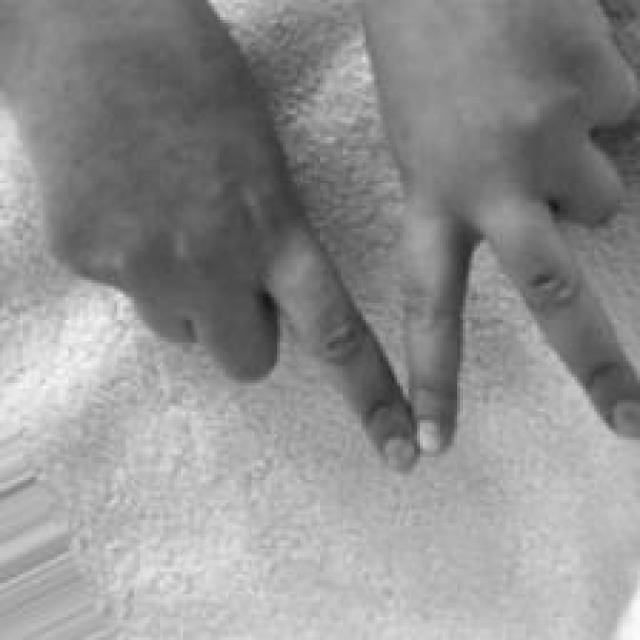N: (5, 4, 640, 479)
